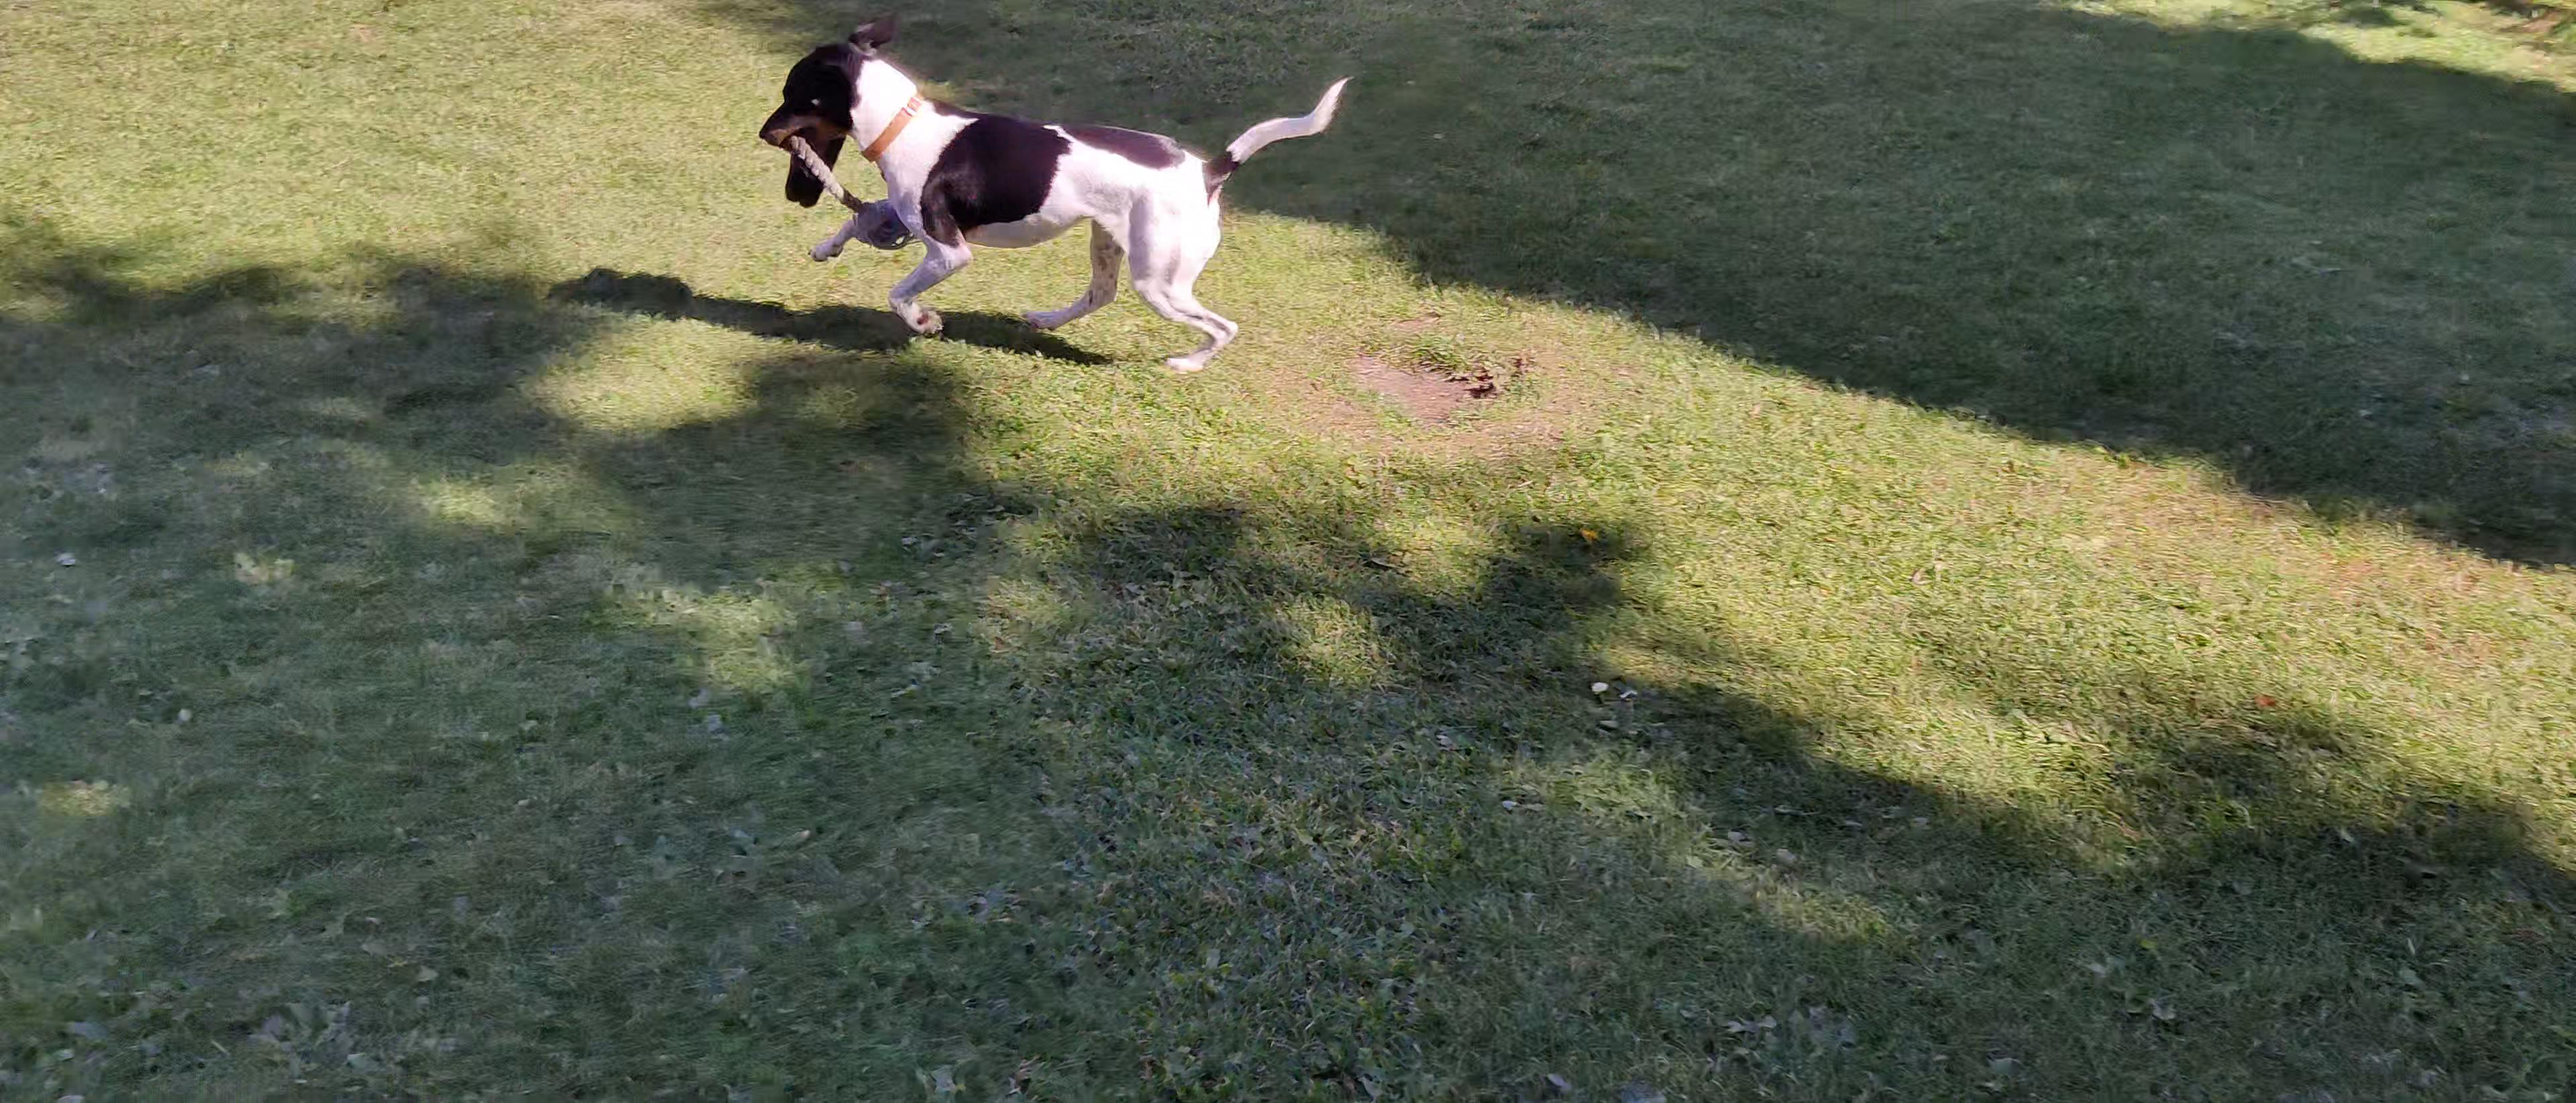Dog: (752, 12, 1354, 376)
